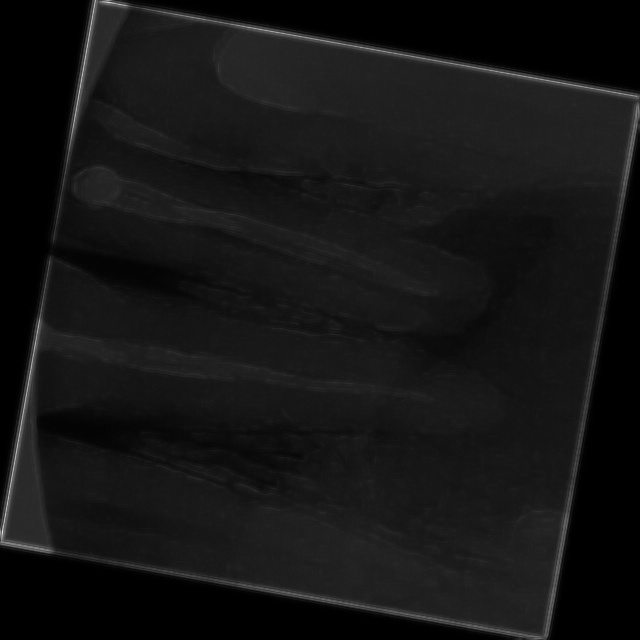Class 1- complete endodontic treatment: (21, 256, 529, 508), (47, 125, 519, 353)
